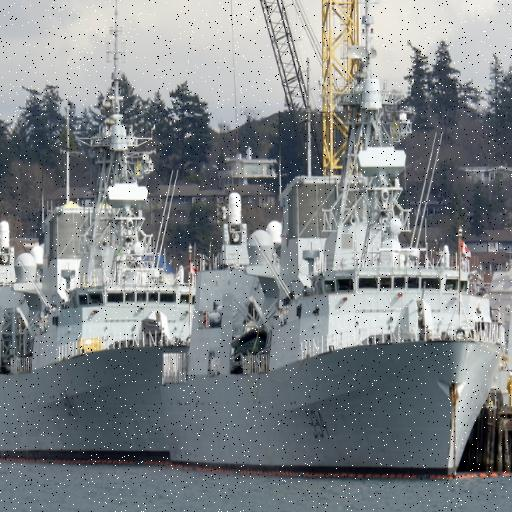Fragata: (162, 40, 508, 483), (1, 1, 195, 469)
